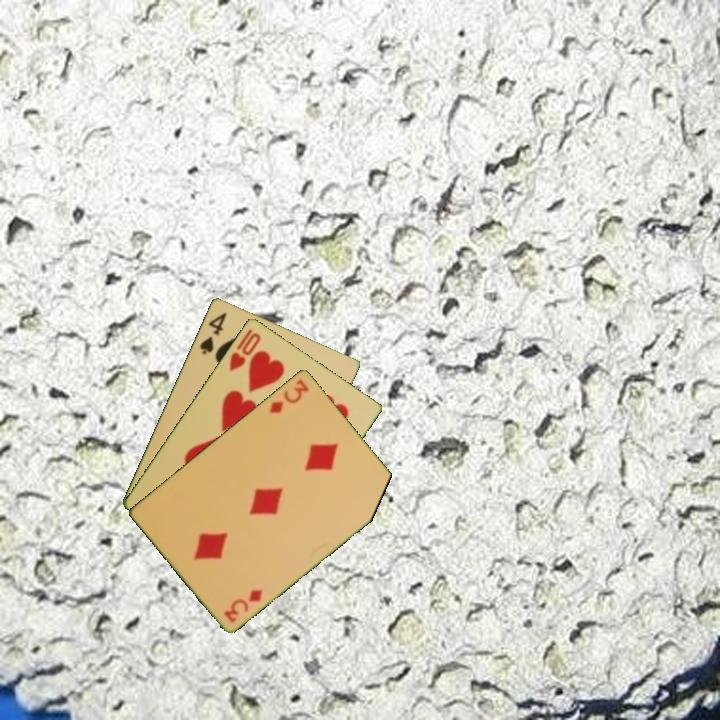10h: (226, 324, 264, 374)
3d: (266, 375, 312, 416), (220, 585, 265, 625)
4s: (196, 308, 229, 357)
